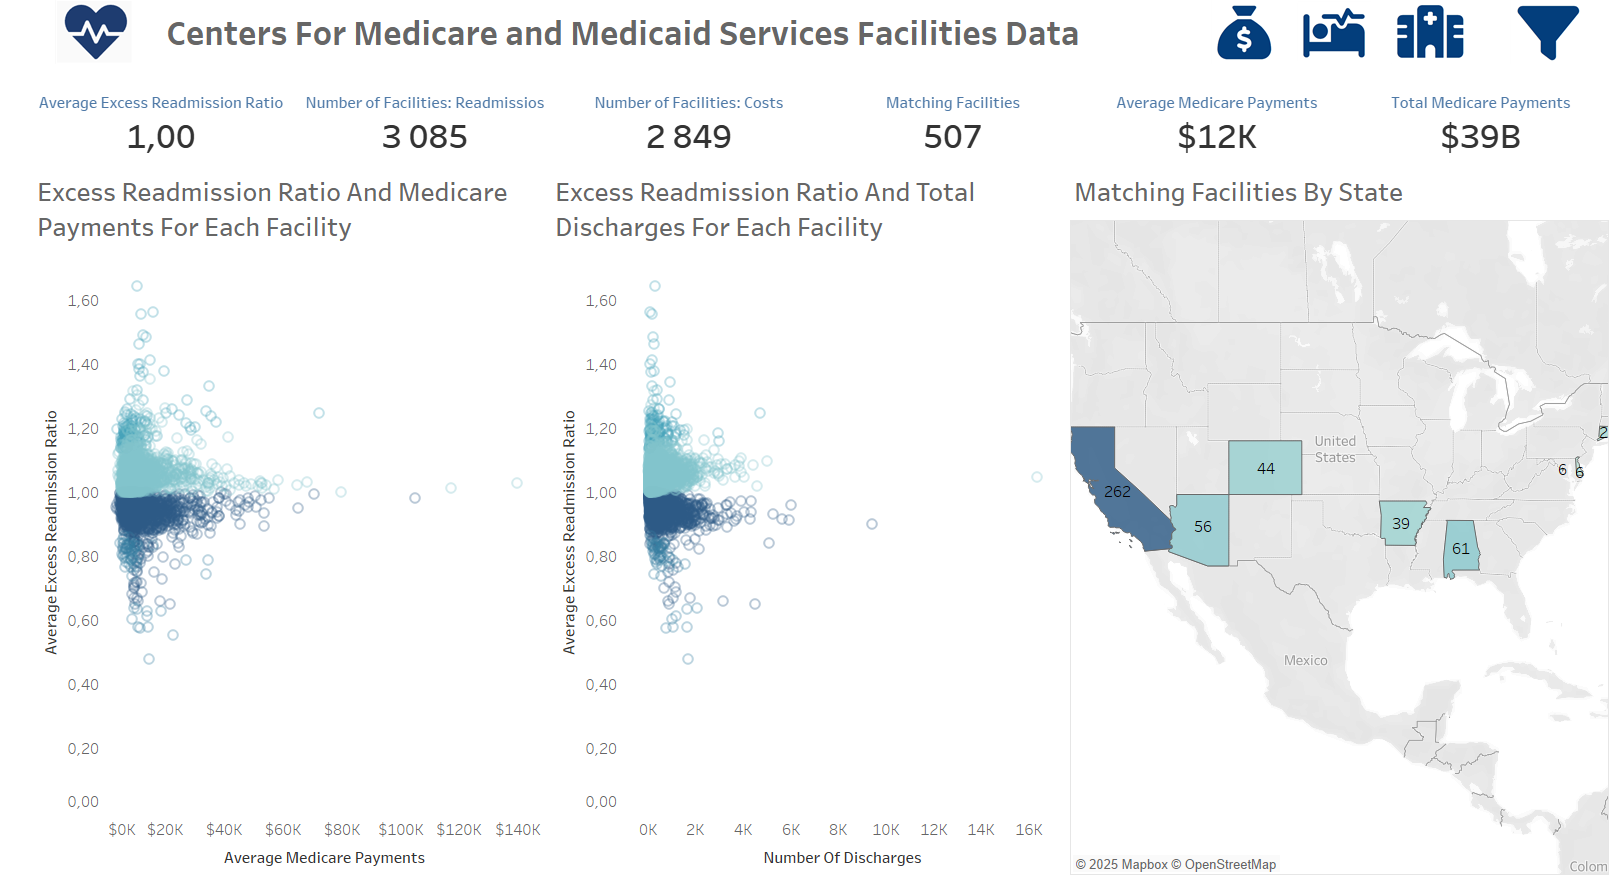

The dashboard page shown, as its layout file describes it:
{"tool":"tableau","page":{"name":"Facilities","canvas":[1600,900],"ordinal":1},"visuals":[{"type":"image","param":"Image/Medicare Heart.png","box":[8,8,130,73]},{"type":"text","box":[138,8,1035,73]},{"type":"dashboard-object","box":[1173,8,99,73]},{"type":"dashboard-object","box":[1272,8,82,73]},{"type":"dashboard-object","box":[1354,8,109,73]},{"type":"dashboard-object","box":[1463,8,129,73]},{"type":"worksheet","title":"BAN: average_excess_readmissions_ratio","mark":"Automatic","box":[8,81,264,98]},{"type":"worksheet","title":"BAN: number_of_facilities_readmissions","mark":"Automatic","box":[272,81,264,98]},{"type":"worksheet","title":"BAN: number_of_facilities_costs","mark":"Automatic","box":[536,81,264,98]},{"type":"worksheet","title":"BAN: number_of matching_facilities","mark":"Automatic","box":[800,81,264,98]},{"type":"worksheet","title":"BAN: average_medicare_payments","mark":"Automatic","box":[1064,81,264,98]},{"type":"worksheet","title":"BAN: total_medicare_payments","mark":"Automatic","box":[1328,81,264,98]},{"type":"parameter","param":"[Parameters].[Parameter 1]","box":[1109,100,467,56]},{"type":"text","box":[1109,156,467,43]},{"type":"worksheet","title":"facility_readmissions_by_payments","mark":"Automatic","rows":["excess_readmission_ratio"],"cols":["average_medicare_payments"],"box":[8,179,518.3,713]},{"type":"worksheet","title":"facility_readmissions_by_discharges","mark":"Automatic","rows":["excess_readmission_ratio"],"cols":["number_of_discharges"],"box":[526.3,179,518.3,713]},{"type":"worksheet","title":"matching_facility_by_state","mark":"Automatic","box":[1044.7,179,547.3,713]},{"type":"filter","title":"facility_readmissions_by_payments","param":"[federated.1q0qv3h1t6cght14akmdx0md0oiq].[none:Calculation_966303621504323592:nk","box":[1109,199,467,61]},{"type":"text","box":[1109,260,467,43]},{"type":"filter","title":"facility_readmissions_by_discharges","param":"[federated.1q0qv3h1t6cght14akmdx0md0oiq].[none:Calculation_966303621504323592:nk","box":[1109,303,467,61]}]}

Visuals, with their boxes on the page's 1600x900 design canvas (x1, y1, x2, y2). These are canvas units, not pixel positions in the 1618x876 screenshot, which may show the page scaled, cropped or inside an application window:
image: BBox(8, 8, 138, 81)
text: BBox(138, 8, 1173, 81)
dashboard-object: BBox(1173, 8, 1272, 81)
dashboard-object: BBox(1272, 8, 1354, 81)
dashboard-object: BBox(1354, 8, 1463, 81)
dashboard-object: BBox(1463, 8, 1592, 81)
"BAN: average_excess_readmissions_ratio" worksheet: BBox(8, 81, 272, 179)
"BAN: number_of_facilities_readmissions" worksheet: BBox(272, 81, 536, 179)
"BAN: number_of_facilities_costs" worksheet: BBox(536, 81, 800, 179)
"BAN: number_of matching_facilities" worksheet: BBox(800, 81, 1064, 179)
"BAN: average_medicare_payments" worksheet: BBox(1064, 81, 1328, 179)
"BAN: total_medicare_payments" worksheet: BBox(1328, 81, 1592, 179)
parameter: BBox(1109, 100, 1576, 156)
text: BBox(1109, 156, 1576, 199)
"facility_readmissions_by_payments" worksheet: BBox(8, 179, 526, 892)
"facility_readmissions_by_discharges" worksheet: BBox(526, 179, 1045, 892)
"matching_facility_by_state" worksheet: BBox(1045, 179, 1592, 892)
"facility_readmissions_by_payments" filter: BBox(1109, 199, 1576, 260)
text: BBox(1109, 260, 1576, 303)
"facility_readmissions_by_discharges" filter: BBox(1109, 303, 1576, 364)
